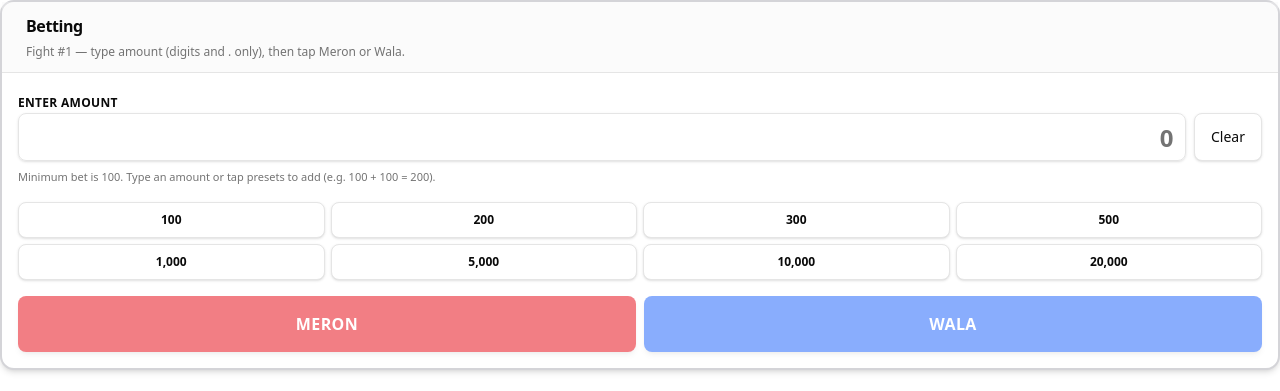
it: TellerBettingPanel › formats thousands while typing
In the field labelled "Enter amount": (602, 137) [18,113,1186,161], type "1500"
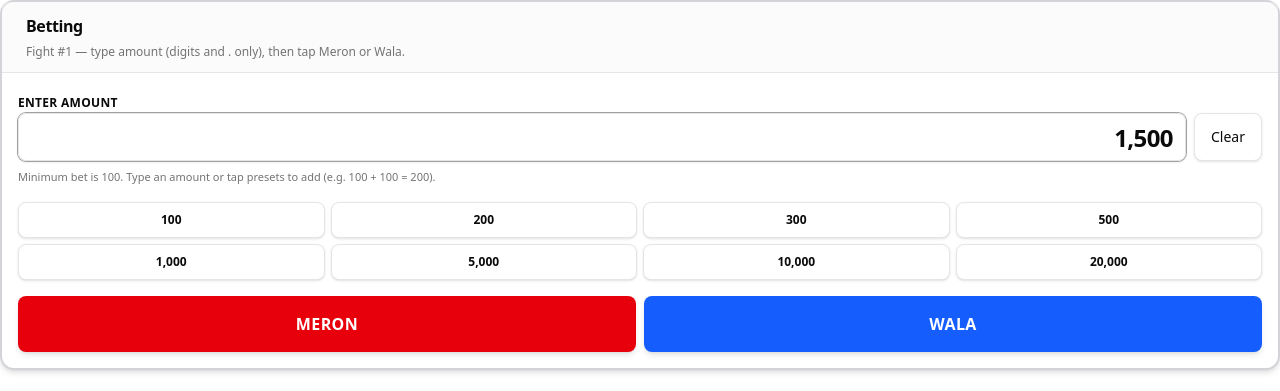
Check: the field labelled "Enter amount" holds "1,500", box [18,113,1186,161]
